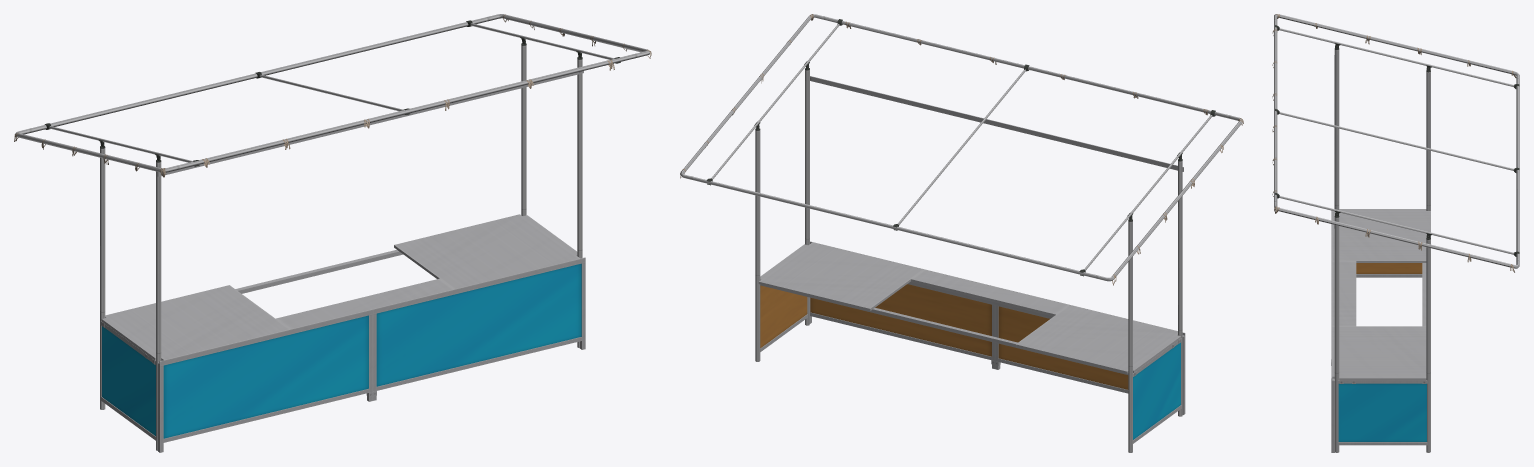
Rendered from jsf_4P_s04_c02_t02.fbx.
3 views of the same model, side by side, from view 1: azimuth 30°, elevation 25°; view 2: azimuth 150°, elevation 25°; view 3: azimuth 270°, elevation 25° (orthographic). The views are drawn at different scales.
Parts seen in each view (by area): view 1: Base_s04_c02, Table_4P_s04_t02, Pillar4_s04, Rope_4P_s04; view 2: Base_s04_c02, Table_4P_s04_t02, Pillar4_s04; view 3: Table_4P_s04_t02, Pillar4_s04, Base_s04_c02, Rope_4P_s04.
Part boxes in pixels (<box>): Base_s04_c02: <box>100,257,585,452</box>; Table_4P_s04_t02: <box>101,214,579,364</box>; Pillar4_s04: <box>14,14,649,450</box>; Rope_4P_s04: <box>14,14,651,177</box>; Base_s04_c02: <box>760,241,1185,443</box>; Table_4P_s04_t02: <box>758,242,1181,376</box>; Pillar4_s04: <box>680,14,1242,452</box>; Table_4P_s04_t02: <box>1332,209,1430,383</box>; Pillar4_s04: <box>1274,14,1519,452</box>; Base_s04_c02: <box>1331,210,1427,452</box>; Rope_4P_s04: <box>1272,14,1516,272</box>.
Bounding box in the file's own units: 395 × 243 × 211.
